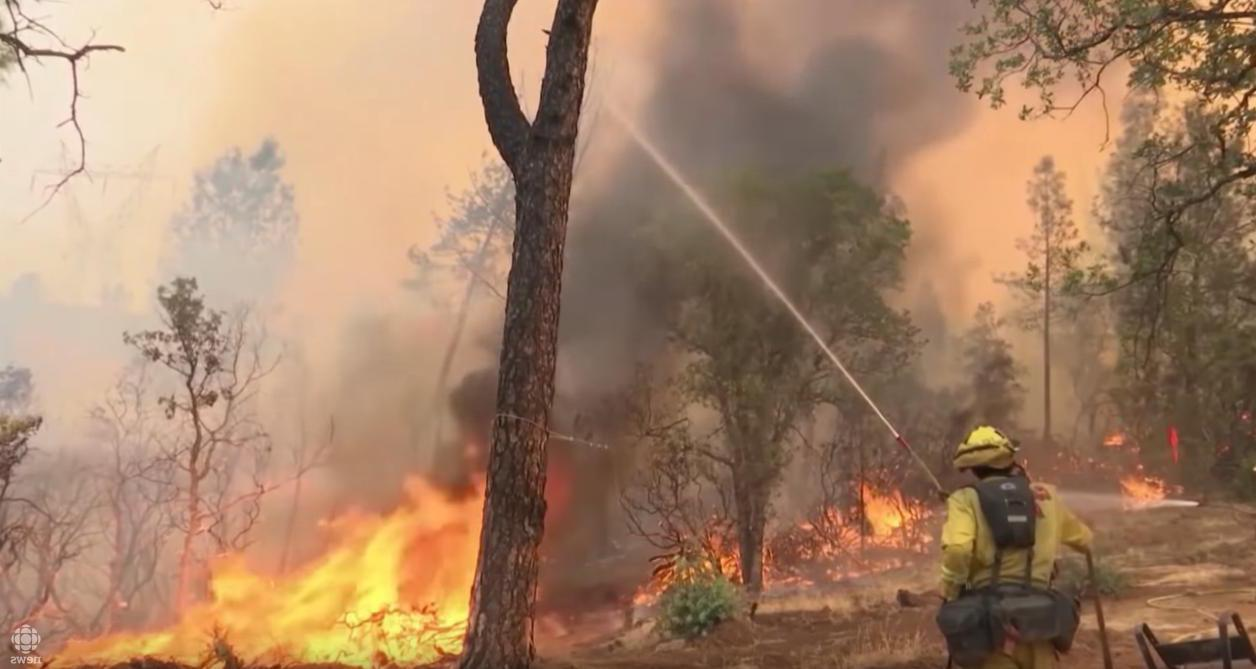Fire: (52, 466, 496, 666), (629, 471, 930, 621), (1113, 457, 1177, 520), (1104, 424, 1129, 447)
